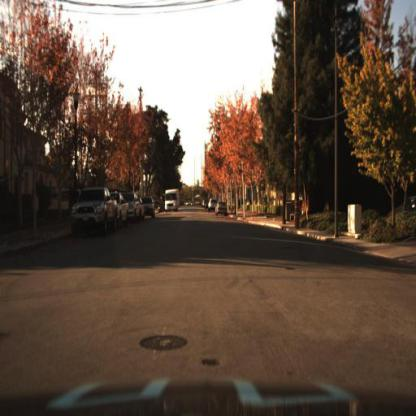car: (68, 186, 118, 236), (122, 190, 142, 224), (112, 188, 128, 224), (139, 192, 159, 219), (162, 187, 179, 214), (214, 196, 230, 219)
